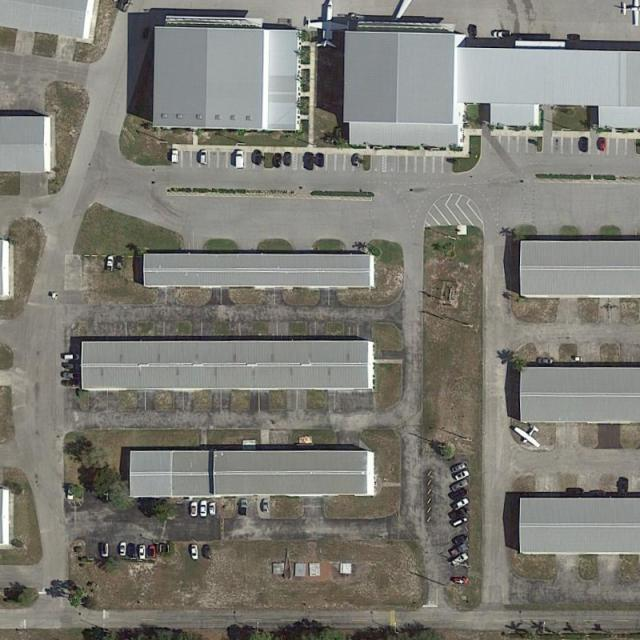vehicle: (447, 486, 469, 502), (616, 478, 630, 501), (450, 552, 470, 568), (448, 506, 467, 522), (448, 543, 468, 558), (450, 478, 470, 492), (449, 497, 469, 511), (450, 532, 469, 546), (448, 514, 468, 527), (578, 136, 590, 154), (454, 469, 470, 482), (235, 151, 245, 170), (452, 462, 469, 473), (106, 255, 116, 273), (61, 370, 81, 379), (282, 152, 292, 170), (198, 150, 209, 166), (126, 542, 137, 558), (62, 353, 81, 362), (469, 23, 478, 42), (305, 154, 315, 171), (565, 489, 586, 497), (118, 1, 132, 13), (492, 30, 513, 38), (351, 154, 362, 169), (62, 379, 82, 387), (538, 357, 554, 367), (190, 545, 200, 561), (100, 542, 110, 558), (190, 502, 200, 517), (118, 542, 128, 557), (148, 544, 158, 559), (590, 490, 608, 498), (240, 499, 248, 517), (67, 484, 76, 500), (597, 138, 607, 152), (451, 578, 468, 586), (316, 154, 325, 169), (101, 488, 110, 503), (62, 362, 81, 369), (274, 154, 282, 170), (254, 150, 262, 166), (200, 500, 207, 518), (171, 151, 180, 165), (262, 499, 270, 514), (115, 256, 123, 270), (210, 503, 217, 518), (204, 546, 212, 559), (139, 545, 146, 559)
